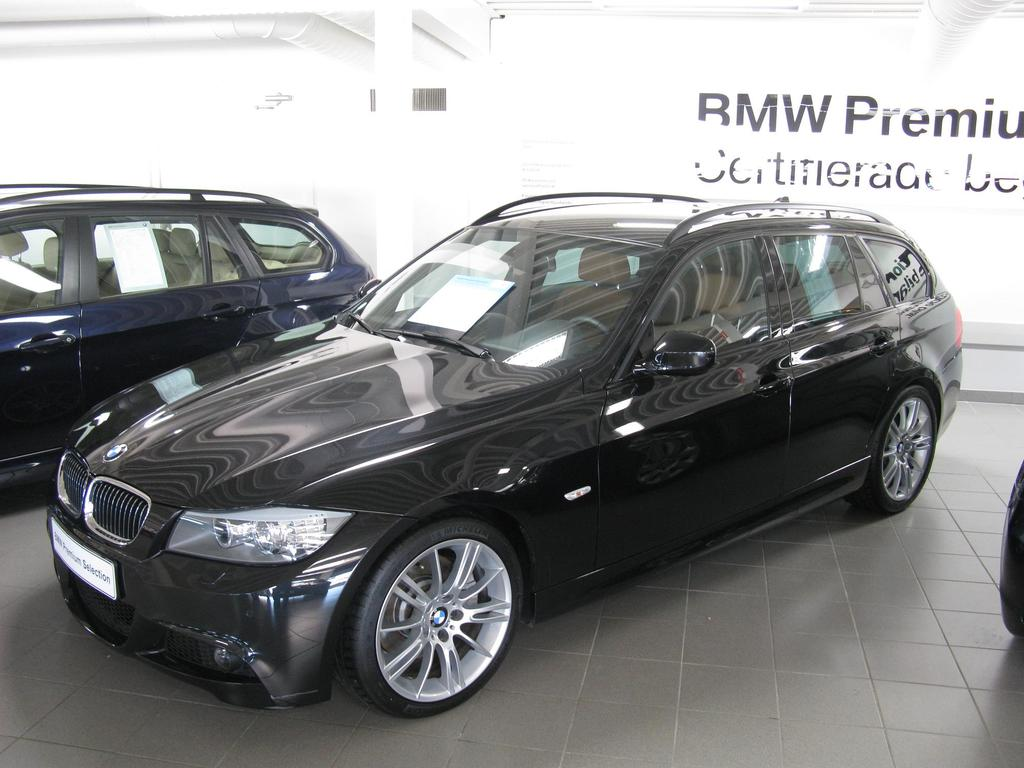Car: (42, 186, 968, 716), (0, 177, 378, 498), (1002, 461, 1023, 637)
